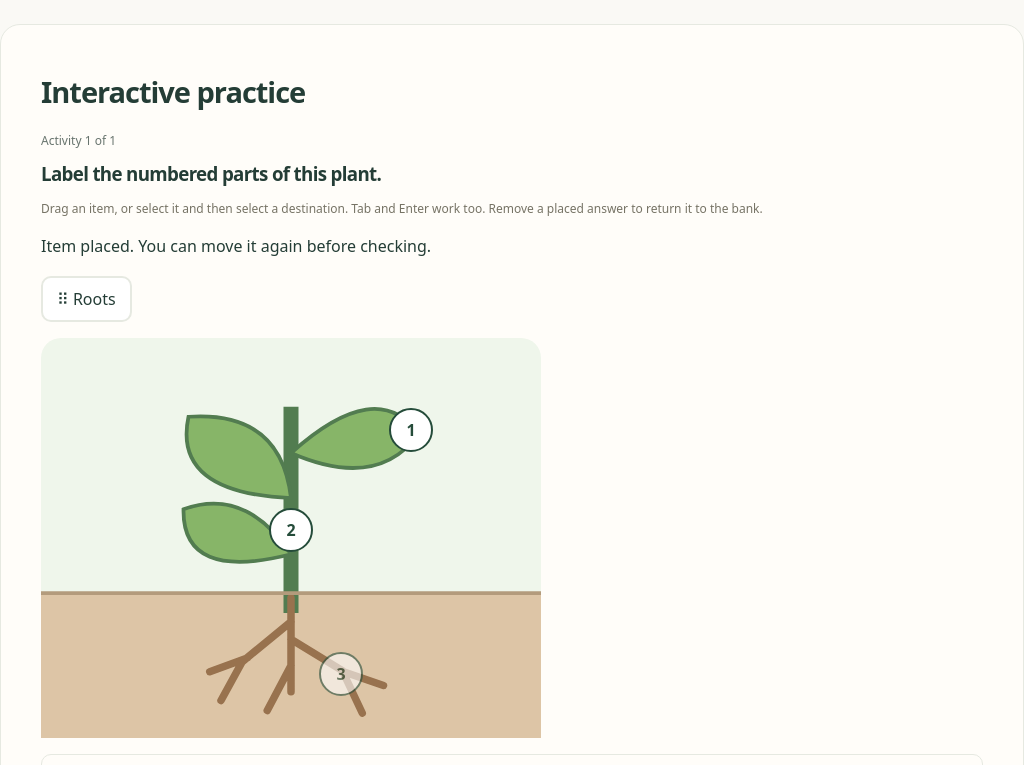
reusable interactive practice › labels the numbered diagram using destinations and provides a descriptive alternative
The width and height of the screenshot is (1024, 765).
Earlier steps of the test are not shown.
Later steps or results of the test are not shown.
Click the button "⠿ Roots". click: click(86, 299)
box: x1=41 y1=276 x2=132 y2=322
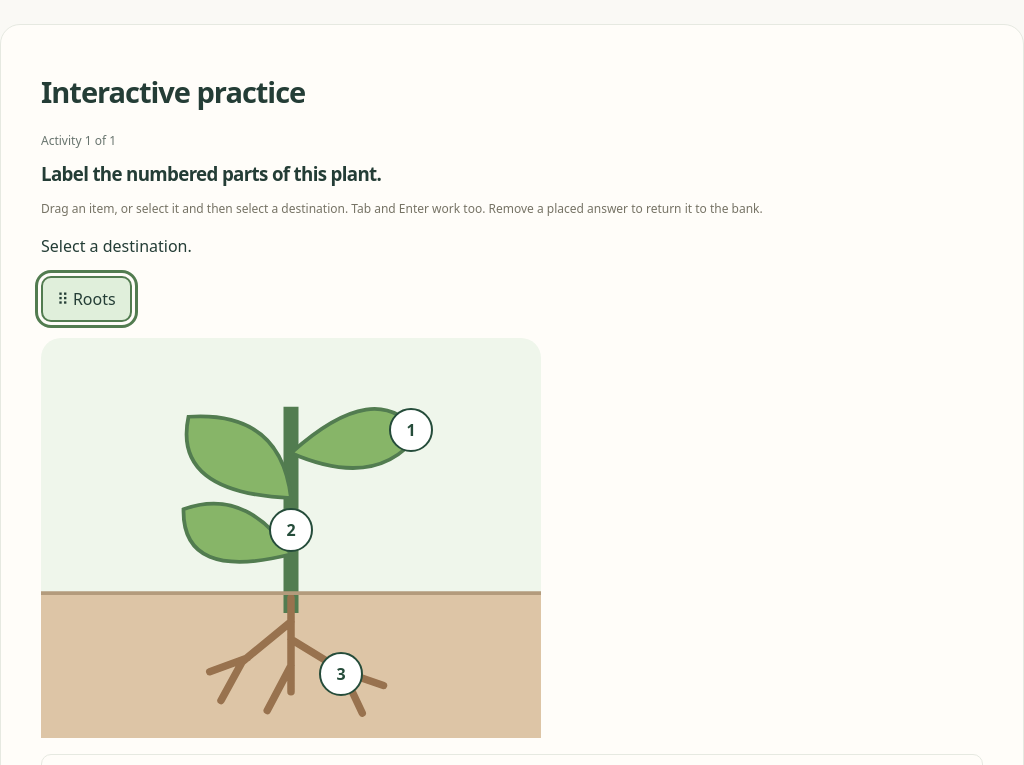
Click the button "3". click: click(341, 674)
box: x1=319 y1=652 x2=363 y2=696
(page scrolled)
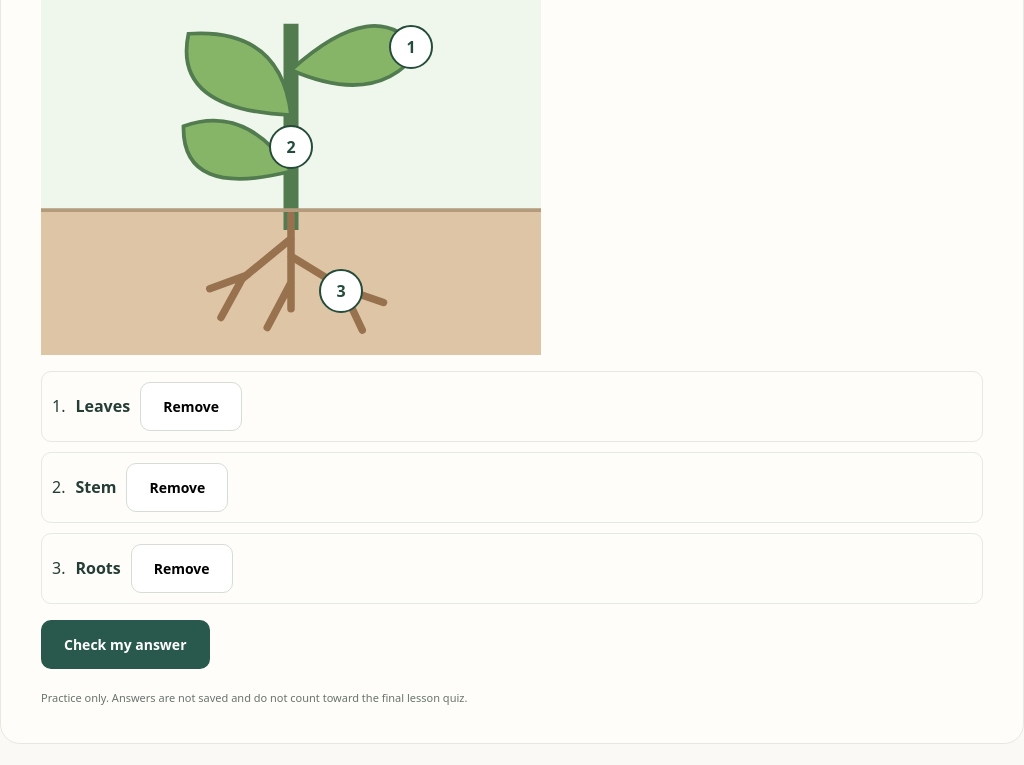
Click the button with aria-label "Remove Leaves". click: click(191, 406)
box: x1=140 y1=382 x2=242 y2=431
(page scrolled)
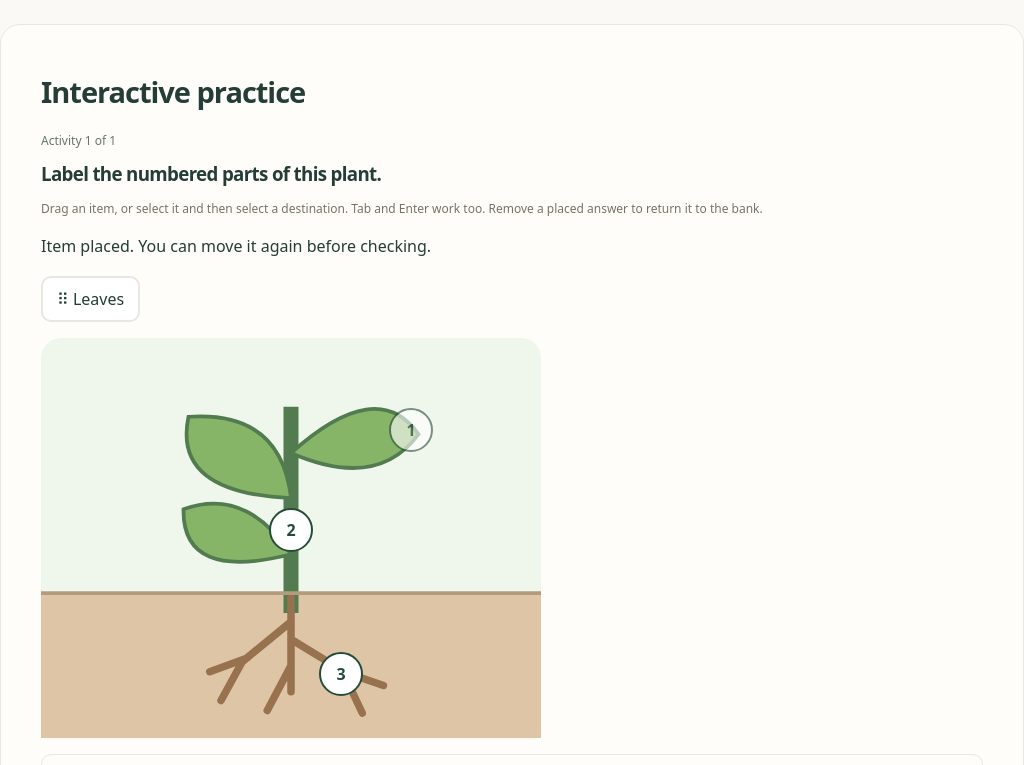
Click the button "⠿ Leaves". click: click(91, 299)
box: x1=41 y1=276 x2=140 y2=322
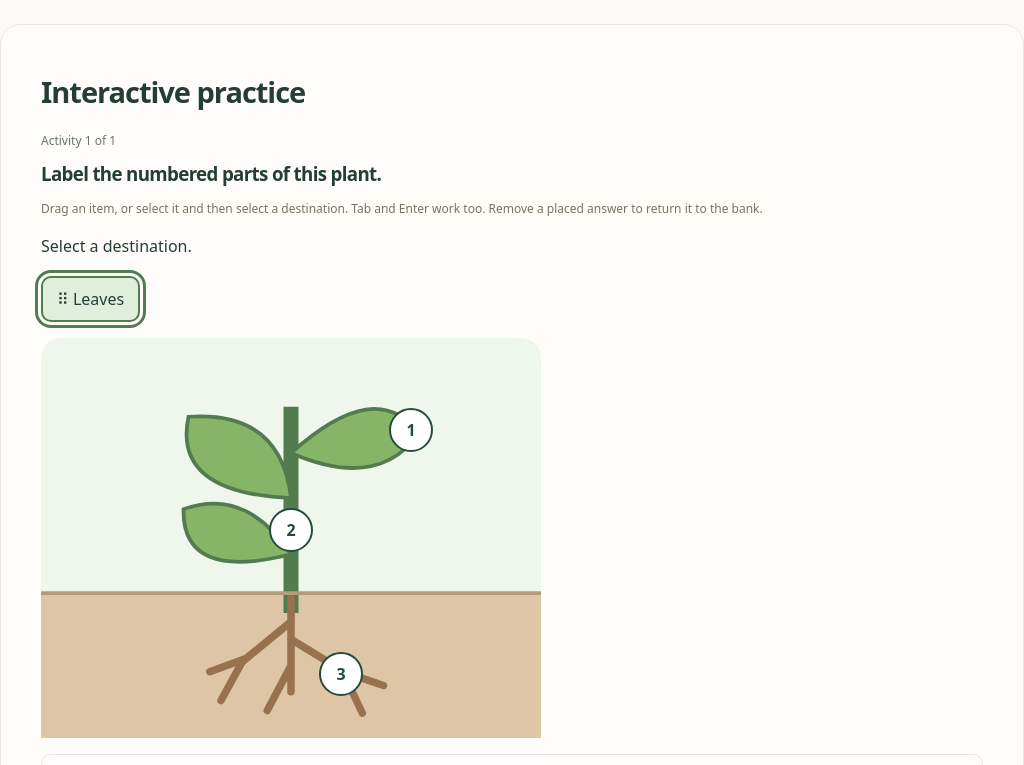
Click the button named "Place at 1". click: click(411, 430)
box: x1=389 y1=408 x2=433 y2=452
(page scrolled)
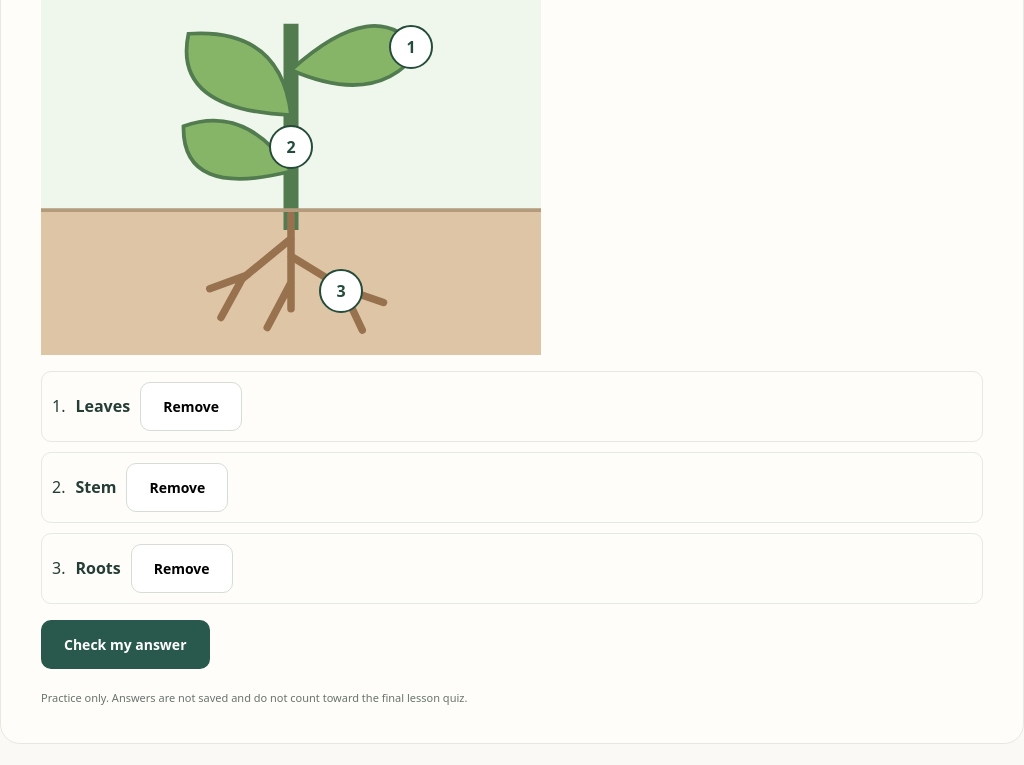
Click the button "Check my answer". click: click(125, 644)
box: x1=41 y1=620 x2=210 y2=669
(page scrolled)
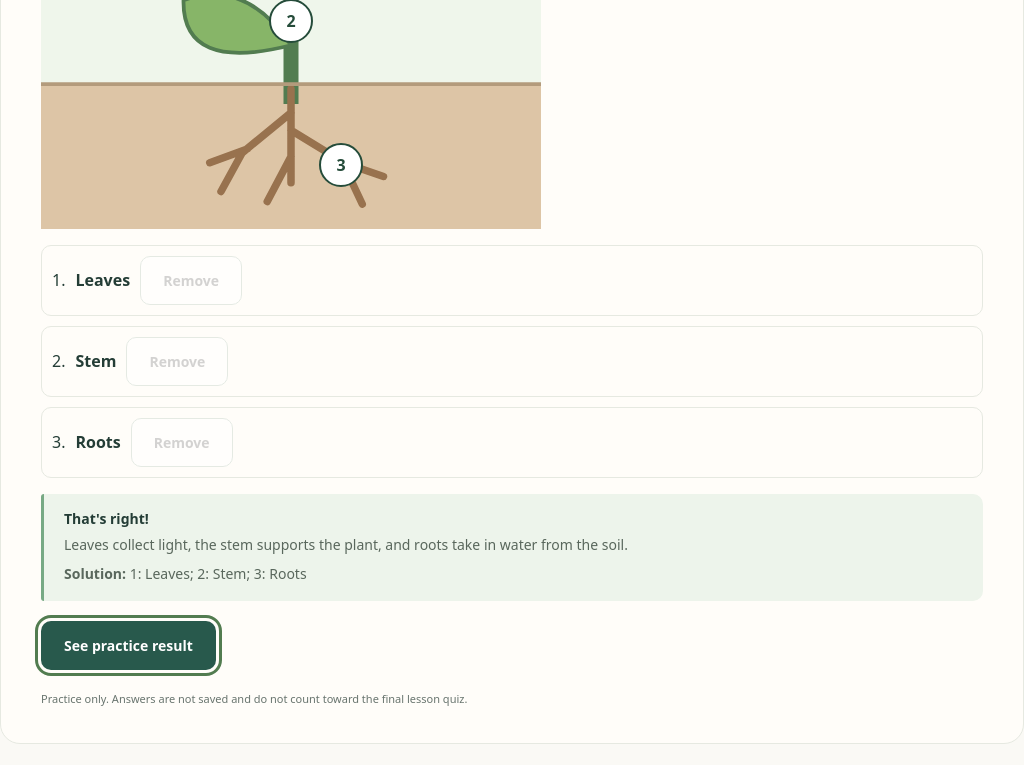
Now the text "That's right!" is shown, box x1=64 y1=509 x2=149 y2=528
